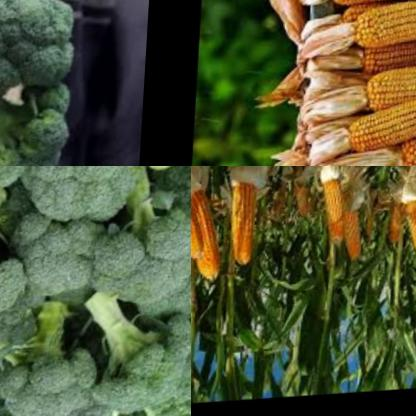broccoli: (38, 267, 191, 416), (84, 166, 191, 313), (0, 0, 82, 115), (6, 166, 142, 234), (0, 84, 92, 166), (0, 194, 31, 344), (138, 166, 191, 248), (0, 365, 50, 416)
corn: (342, 93, 416, 159), (191, 166, 229, 289), (228, 166, 266, 275), (348, 0, 416, 55), (315, 166, 355, 253), (359, 64, 416, 117), (341, 173, 370, 273), (353, 36, 416, 79), (383, 184, 416, 255), (191, 166, 212, 264), (402, 186, 416, 265)
